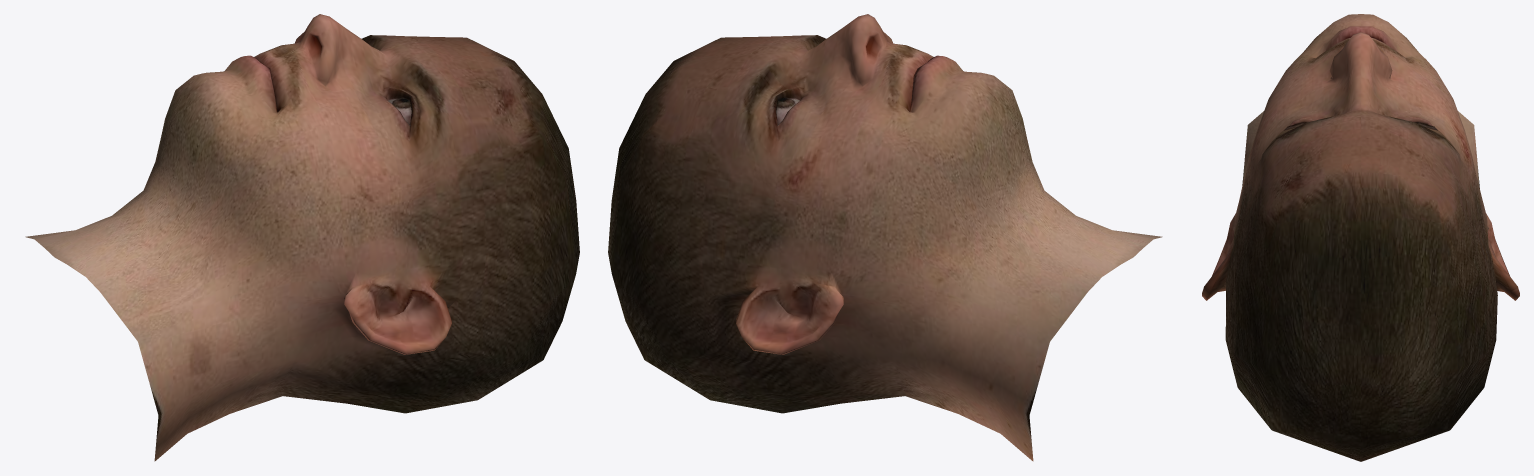
File: head_us_ranger_preston.glb
3 renders of one model, left to right at view 1: azimuth 30°, elevation 25°; view 2: azimuth 150°, elevation 25°; view 3: azimuth 270°, elevation 25°, orthographic. The views are drawn at different scales.
Bounding box in the file's own units: 12.71 × 9.72 × 7.56.
Materials: 1 (1 with a texture image).
